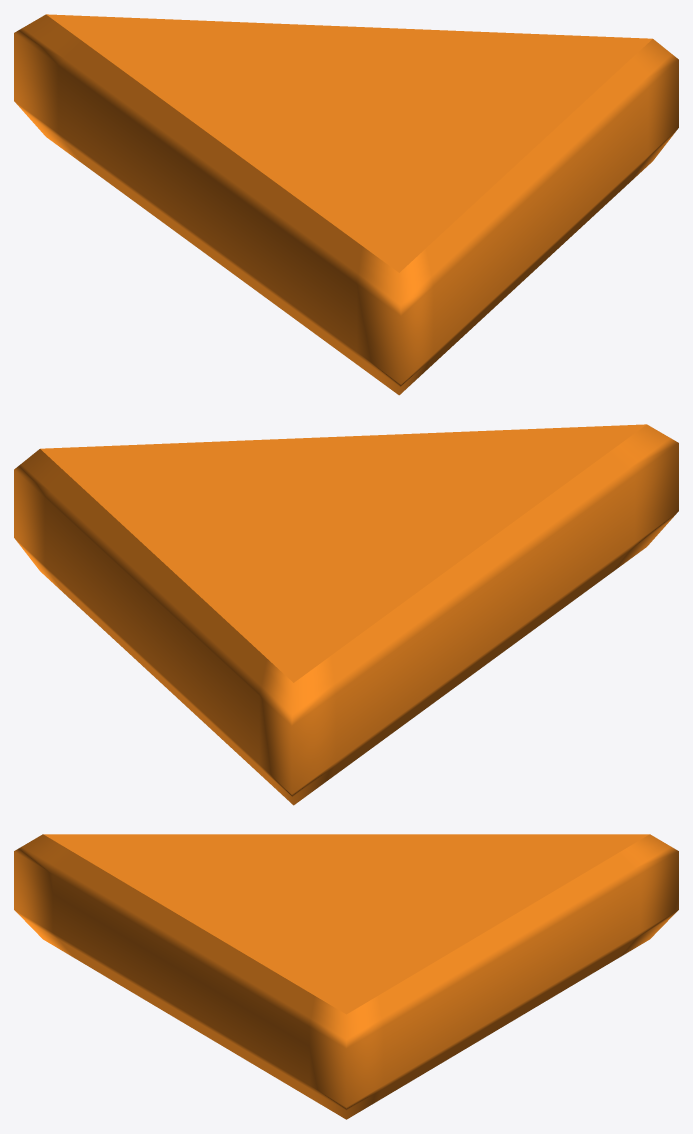
File: sign_play.fbx
The picture shows the model from 3 angles, top to bottom: view 1: azimuth 30°, elevation 25°; view 2: azimuth 150°, elevation 25°; view 3: azimuth 270°, elevation 25°; orthographic projection. The views are drawn at different scales.
Parts seen in each view (by area): view 1: polySurface28; view 2: polySurface28; view 3: polySurface28.
Boxes of the visible parts, x1=… form: polySurface28: x1=14, y1=14, x2=678, y2=395; polySurface28: x1=14, y1=424, x2=678, y2=805; polySurface28: x1=14, y1=834, x2=678, y2=1119.
Size of the model in its own units: 0.4267 by 0.106 by 0.6068.
Materials: 1 (1 with a texture image).
